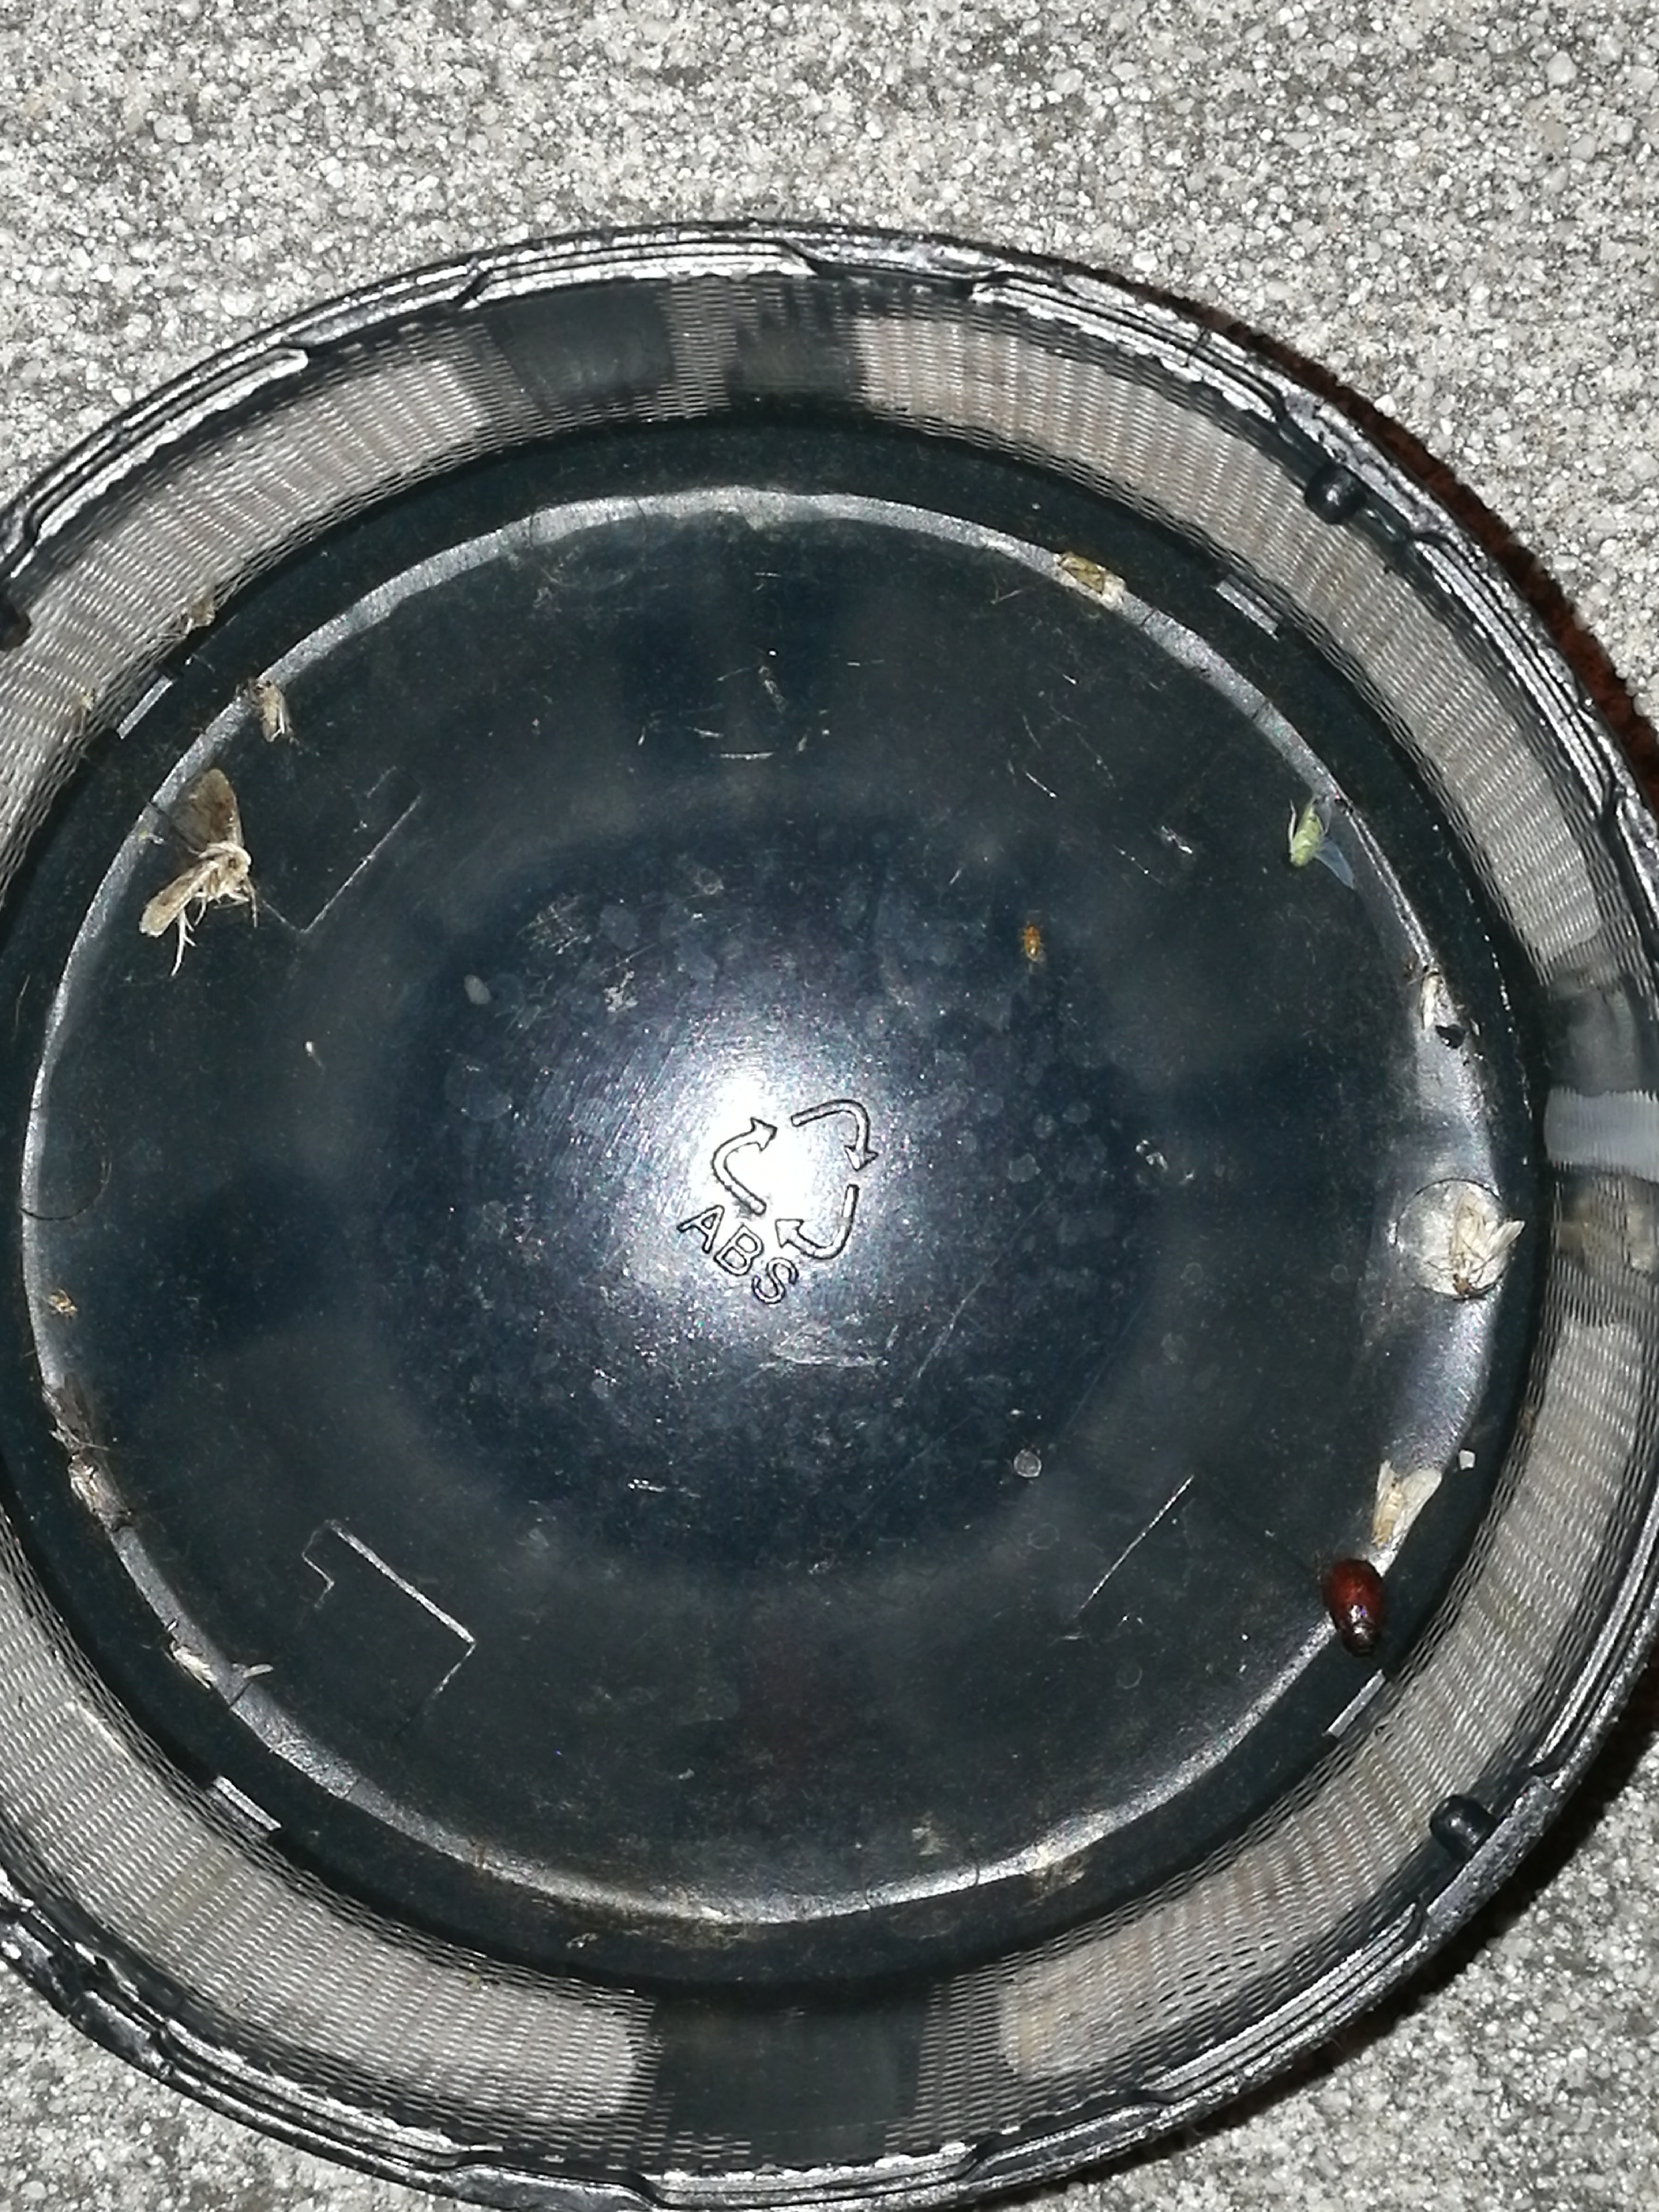beetle: (1324, 1559, 1385, 1656)
mosquito: (1051, 556, 1124, 603), (66, 1454, 112, 1512), (260, 678, 289, 740)
moth: (141, 770, 253, 937), (1373, 1460, 1441, 1557), (1450, 1207, 1525, 1278)
